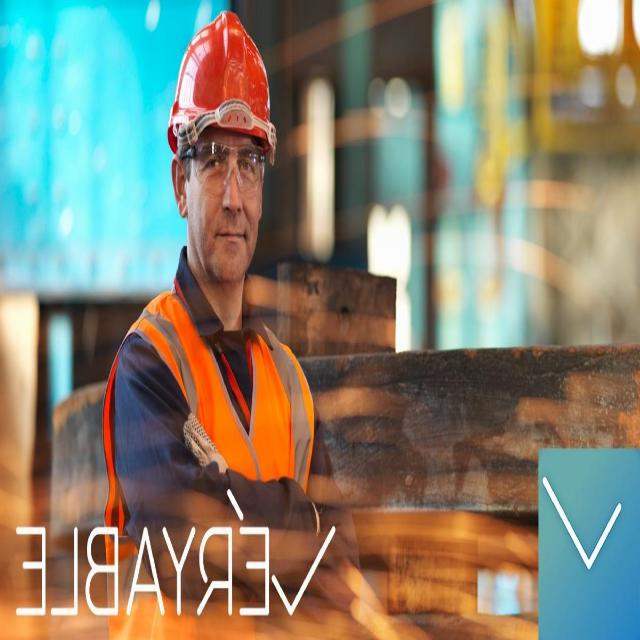Reflective-Jacket: (101, 284, 319, 611)
Safety-Helmet: (163, 6, 281, 158)
